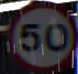Speed limit: (7, 2, 76, 71)
